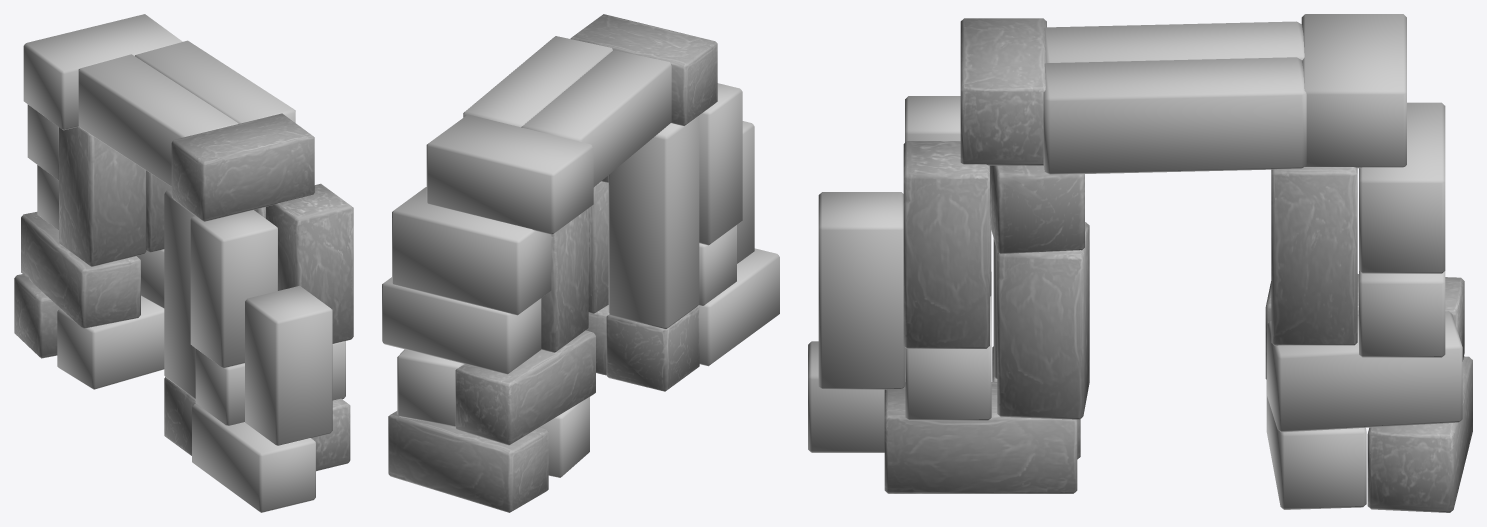
The model's file is Door.fbx.
The picture shows the model from 3 angles, left to right: view 1: azimuth 30°, elevation 25°; view 2: azimuth 150°, elevation 25°; view 3: azimuth 270°, elevation 25°; orthographic projection. The views are drawn at different scales.
Parts seen in each view (by area): view 1: Brick#1.032, Brick#2.019, Brick#1.035, Brick#1.033, Brick#2.022, Brick#2.018, Brick#1.023, Brick#1.040, Brick#2.021, Brick#1.036, Brick#1.034, Brick#1.030 (+8 smaller); view 2: Brick#1.030, Brick#1.040, Brick#1.039, Brick#2.020, Brick#1.035, Brick#2.021, Brick#1.038, Brick#2.019, Brick#1.033, Brick#1.034, Brick#3.023, Brick#1.023 (+7 smaller); view 3: Brick#1.034, Brick#2.018, Brick#1.032, Brick#1.040, Brick#1.037, Brick#2.017, Brick#2.023, doorB, Brick#2.019, Brick#1.039, Brick#1.035, Brick#2.020 (+7 smaller).
Part boxes in pixels (x1,y1,x2,y2): Brick#1.032: (245, 285, 332, 445); Brick#2.019: (171, 113, 314, 221); Brick#1.035: (78, 54, 238, 186); Brick#1.033: (190, 210, 277, 368); Brick#2.022: (59, 126, 146, 266); Brick#2.018: (266, 183, 353, 343); Brick#1.023: (192, 403, 315, 512); Brick#1.040: (23, 14, 182, 130); Brick#2.021: (21, 212, 140, 328); Brick#1.036: (57, 296, 164, 389); Brick#1.034: (135, 40, 295, 123); Brick#1.030: (164, 188, 195, 398); Brick#1.030: (608, 116, 699, 328); Brick#1.040: (426, 114, 593, 234); Brick#1.039: (392, 187, 551, 315); Brick#2.020: (388, 411, 548, 512); Brick#1.035: (521, 50, 671, 187); Brick#2.021: (455, 330, 595, 445); Brick#1.038: (382, 277, 541, 374); Brick#2.019: (570, 14, 717, 125); Brick#1.033: (699, 83, 742, 245); Brick#1.034: (463, 36, 612, 127); Brick#3.023: (606, 305, 699, 391); Brick#1.023: (698, 248, 779, 366); Brick#1.034: (1043, 57, 1306, 174); Brick#2.018: (903, 141, 989, 348); Brick#1.032: (818, 192, 904, 389); Brick#1.040: (1301, 14, 1406, 168); Brick#1.037: (1267, 311, 1462, 432); Brick#2.017: (997, 222, 1089, 419); Brick#2.023: (1271, 167, 1357, 345); doorB: (884, 382, 1077, 493); Brick#2.019: (960, 18, 1046, 165); Brick#1.039: (1359, 102, 1445, 273); Brick#1.035: (1044, 21, 1304, 62); Brick#2.020: (1367, 356, 1472, 512).
Bounding box in the file's own units: 532 × 1055 × 1539.
